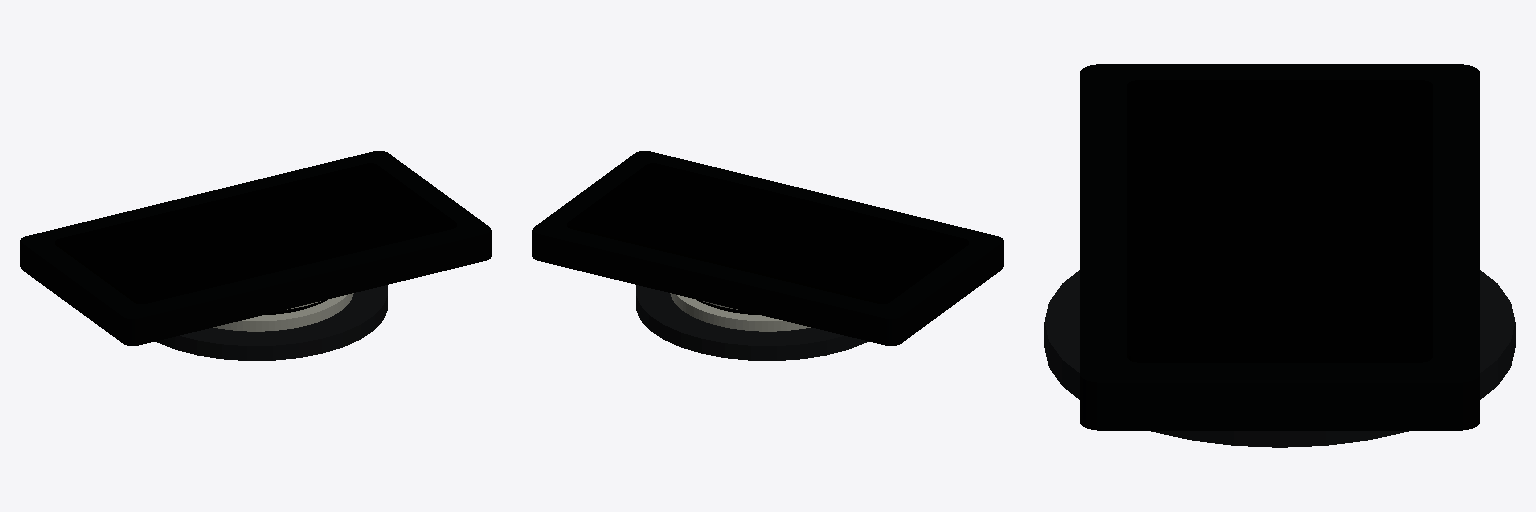
URDF robot description (rectangular_monitor_stand_lazy_susan):
<robot name="rectangular_monitor_stand_lazy_susan">
  <material name="matte_black">
    <color rgba="0.015 0.016 0.017 1" />
    </material>
  <material name="charcoal_powdercoat">
    <color rgba="0.08 0.085 0.09 1" />
    </material>
  <material name="dark_rubber">
    <color rgba="0.005 0.005 0.004 1" />
    </material>
  <material name="brushed_steel">
    <color rgba="0.58 0.58 0.54 1" />
    </material>
  <material name="polished_bearing_steel">
    <color rgba="0.82 0.82 0.78 1" />
    </material>
  <link name="base">
    <visual name="bottom_disc">
      <origin xyz="0 0 0.0125" rpy="0 0 0" />
      <geometry>
        <cylinder radius="0.2" length="0.025" />
        </geometry>
      <material name="charcoal_powdercoat">
        <color rgba="0.08 0.085 0.09 1" />
        </material>
      </visual>
    <visual name="lower_turntable_ring">
      <origin xyz="0 0 0.025" rpy="0 0 0" />
      <geometry>
        <mesh filename="assets/meshes/lower_turntable_ring.obj" />
        </geometry>
      <material name="brushed_steel">
        <color rgba="0.58 0.58 0.54 1" />
        </material>
      </visual>
    <visual name="center_bearing_boss">
      <origin xyz="0 0 0.0415" rpy="0 0 0" />
      <geometry>
        <cylinder radius="0.055" length="0.033" />
        </geometry>
      <material name="brushed_steel">
        <color rgba="0.58 0.58 0.54 1" />
        </material>
      </visual>
    <visual name="bearing_cage">
      <origin xyz="0 0 0.045" rpy="0 0 0" />
      <geometry>
        <mesh filename="assets/meshes/bearing_cage.obj" />
        </geometry>
      <material name="dark_rubber">
        <color rgba="0.005 0.005 0.004 1" />
        </material>
      </visual>
    <visual name="bearing_ball_0">
      <origin xyz="0.12 0 0.0495" rpy="0 0 0" />
      <geometry>
        <sphere radius="0.0075" />
        </geometry>
      <material name="polished_bearing_steel">
        <color rgba="0.82 0.82 0.78 1" />
        </material>
      </visual>
    <visual name="bearing_ball_1">
      <origin xyz="0.110866 0.045922 0.0495" rpy="0 0 0" />
      <geometry>
        <sphere radius="0.0075" />
        </geometry>
      <material name="polished_bearing_steel">
        <color rgba="0.82 0.82 0.78 1" />
        </material>
      </visual>
    <visual name="bearing_ball_2">
      <origin xyz="0.0848528 0.0848528 0.0495" rpy="0 0 0" />
      <geometry>
        <sphere radius="0.0075" />
        </geometry>
      <material name="polished_bearing_steel">
        <color rgba="0.82 0.82 0.78 1" />
        </material>
      </visual>
    <visual name="bearing_ball_3">
      <origin xyz="0.045922 0.110866 0.0495" rpy="0 0 0" />
      <geometry>
        <sphere radius="0.0075" />
        </geometry>
      <material name="polished_bearing_steel">
        <color rgba="0.82 0.82 0.78 1" />
        </material>
      </visual>
    <visual name="bearing_ball_4">
      <origin xyz="7.34788e-18 0.12 0.0495" rpy="0 0 0" />
      <geometry>
        <sphere radius="0.0075" />
        </geometry>
      <material name="polished_bearing_steel">
        <color rgba="0.82 0.82 0.78 1" />
        </material>
      </visual>
    <visual name="bearing_ball_5">
      <origin xyz="-0.045922 0.110866 0.0495" rpy="0 0 0" />
      <geometry>
        <sphere radius="0.0075" />
        </geometry>
      <material name="polished_bearing_steel">
        <color rgba="0.82 0.82 0.78 1" />
        </material>
      </visual>
    <visual name="bearing_ball_6">
      <origin xyz="-0.0848528 0.0848528 0.0495" rpy="0 0 0" />
      <geometry>
        <sphere radius="0.0075" />
        </geometry>
      <material name="polished_bearing_steel">
        <color rgba="0.82 0.82 0.78 1" />
        </material>
      </visual>
    <visual name="bearing_ball_7">
      <origin xyz="-0.110866 0.045922 0.0495" rpy="0 0 0" />
      <geometry>
        <sphere radius="0.0075" />
        </geometry>
      <material name="polished_bearing_steel">
        <color rgba="0.82 0.82 0.78 1" />
        </material>
      </visual>
    <visual name="bearing_ball_8">
      <origin xyz="-0.12 1.46958e-17 0.0495" rpy="0 0 0" />
      <geometry>
        <sphere radius="0.0075" />
        </geometry>
      <material name="polished_bearing_steel">
        <color rgba="0.82 0.82 0.78 1" />
        </material>
      </visual>
    <visual name="bearing_ball_9">
      <origin xyz="-0.110866 -0.045922 0.0495" rpy="0 0 0" />
      <geometry>
        <sphere radius="0.0075" />
        </geometry>
      <material name="polished_bearing_steel">
        <color rgba="0.82 0.82 0.78 1" />
        </material>
      </visual>
    <visual name="bearing_ball_10">
      <origin xyz="-0.0848528 -0.0848528 0.0495" rpy="0 0 0" />
      <geometry>
        <sphere radius="0.0075" />
        </geometry>
      <material name="polished_bearing_steel">
        <color rgba="0.82 0.82 0.78 1" />
        </material>
      </visual>
    <visual name="bearing_ball_11">
      <origin xyz="-0.045922 -0.110866 0.0495" rpy="0 0 0" />
      <geometry>
        <sphere radius="0.0075" />
        </geometry>
      <material name="polished_bearing_steel">
        <color rgba="0.82 0.82 0.78 1" />
        </material>
      </visual>
    <visual name="bearing_ball_12">
      <origin xyz="-2.20436e-17 -0.12 0.0495" rpy="0 0 0" />
      <geometry>
        <sphere radius="0.0075" />
        </geometry>
      <material name="polished_bearing_steel">
        <color rgba="0.82 0.82 0.78 1" />
        </material>
      </visual>
    <visual name="bearing_ball_13">
      <origin xyz="0.045922 -0.110866 0.0495" rpy="0 0 0" />
      <geometry>
        <sphere radius="0.0075" />
        </geometry>
      <material name="polished_bearing_steel">
        <color rgba="0.82 0.82 0.78 1" />
        </material>
      </visual>
    <visual name="bearing_ball_14">
      <origin xyz="0.0848528 -0.0848528 0.0495" rpy="0 0 0" />
      <geometry>
        <sphere radius="0.0075" />
        </geometry>
      <material name="polished_bearing_steel">
        <color rgba="0.82 0.82 0.78 1" />
        </material>
      </visual>
    <visual name="bearing_ball_15">
      <origin xyz="0.110866 -0.045922 0.0495" rpy="0 0 0" />
      <geometry>
        <sphere radius="0.0075" />
        </geometry>
      <material name="polished_bearing_steel">
        <color rgba="0.82 0.82 0.78 1" />
        </material>
      </visual>
    <collision name="bottom_disc">
      <origin xyz="0 0 0.0125" rpy="0 0 0" />
      <geometry>
        <cylinder radius="0.2" length="0.025" />
        </geometry>
      </collision>
    <collision name="lower_turntable_ring">
      <origin xyz="0 0 0.025" rpy="0 0 0" />
      <geometry>
        <mesh filename="assets/meshes/lower_turntable_ring.obj" />
        </geometry>
      </collision>
    <collision name="center_bearing_boss">
      <origin xyz="0 0 0.0415" rpy="0 0 0" />
      <geometry>
        <cylinder radius="0.055" length="0.033" />
        </geometry>
      </collision>
    <collision name="bearing_cage">
      <origin xyz="0 0 0.045" rpy="0 0 0" />
      <geometry>
        <mesh filename="assets/meshes/bearing_cage.obj" />
        </geometry>
      </collision>
    <collision name="bearing_ball_0">
      <origin xyz="0.12 0 0.0495" rpy="0 0 0" />
      <geometry>
        <sphere radius="0.0075" />
        </geometry>
      </collision>
    <collision name="bearing_ball_1">
      <origin xyz="0.110866 0.045922 0.0495" rpy="0 0 0" />
      <geometry>
        <sphere radius="0.0075" />
        </geometry>
      </collision>
    <collision name="bearing_ball_2">
      <origin xyz="0.0848528 0.0848528 0.0495" rpy="0 0 0" />
      <geometry>
        <sphere radius="0.0075" />
        </geometry>
      </collision>
    <collision name="bearing_ball_3">
      <origin xyz="0.045922 0.110866 0.0495" rpy="0 0 0" />
      <geometry>
        <sphere radius="0.0075" />
        </geometry>
      </collision>
    <collision name="bearing_ball_4">
      <origin xyz="7.34788e-18 0.12 0.0495" rpy="0 0 0" />
      <geometry>
        <sphere radius="0.0075" />
        </geometry>
      </collision>
    <collision name="bearing_ball_5">
      <origin xyz="-0.045922 0.110866 0.0495" rpy="0 0 0" />
      <geometry>
        <sphere radius="0.0075" />
        </geometry>
      </collision>
    <collision name="bearing_ball_6">
      <origin xyz="-0.0848528 0.0848528 0.0495" rpy="0 0 0" />
      <geometry>
        <sphere radius="0.0075" />
        </geometry>
      </collision>
    <collision name="bearing_ball_7">
      <origin xyz="-0.110866 0.045922 0.0495" rpy="0 0 0" />
      <geometry>
        <sphere radius="0.0075" />
        </geometry>
      </collision>
    <collision name="bearing_ball_8">
      <origin xyz="-0.12 1.46958e-17 0.0495" rpy="0 0 0" />
      <geometry>
        <sphere radius="0.0075" />
        </geometry>
      </collision>
    <collision name="bearing_ball_9">
      <origin xyz="-0.110866 -0.045922 0.0495" rpy="0 0 0" />
      <geometry>
        <sphere radius="0.0075" />
        </geometry>
      </collision>
    <collision name="bearing_ball_10">
      <origin xyz="-0.0848528 -0.0848528 0.0495" rpy="0 0 0" />
      <geometry>
        <sphere radius="0.0075" />
        </geometry>
      </collision>
    <collision name="bearing_ball_11">
      <origin xyz="-0.045922 -0.110866 0.0495" rpy="0 0 0" />
      <geometry>
        <sphere radius="0.0075" />
        </geometry>
      </collision>
    <collision name="bearing_ball_12">
      <origin xyz="-2.20436e-17 -0.12 0.0495" rpy="0 0 0" />
      <geometry>
        <sphere radius="0.0075" />
        </geometry>
      </collision>
    <collision name="bearing_ball_13">
      <origin xyz="0.045922 -0.110866 0.0495" rpy="0 0 0" />
      <geometry>
        <sphere radius="0.0075" />
        </geometry>
      </collision>
    <collision name="bearing_ball_14">
      <origin xyz="0.0848528 -0.0848528 0.0495" rpy="0 0 0" />
      <geometry>
        <sphere radius="0.0075" />
        </geometry>
      </collision>
    <collision name="bearing_ball_15">
      <origin xyz="0.110866 -0.045922 0.0495" rpy="0 0 0" />
      <geometry>
        <sphere radius="0.0075" />
        </geometry>
      </collision>
    </link>
  <link name="top_platform">
    <visual name="upper_bearing_disc">
      <origin xyz="0 0 0.007" rpy="0 0 0" />
      <geometry>
        <cylinder radius="0.148" length="0.014" />
        </geometry>
      <material name="brushed_steel">
        <color rgba="0.58 0.58 0.54 1" />
        </material>
      </visual>
    <visual name="top_plate">
      <origin xyz="0 0 0.014" rpy="0 0 0" />
      <geometry>
        <mesh filename="assets/meshes/top_plate.obj" />
        </geometry>
      <material name="matte_black">
        <color rgba="0.015 0.016 0.017 1" />
        </material>
      </visual>
    <visual name="top_grip_mat">
      <origin xyz="0 0 0.059" rpy="0 0 0" />
      <geometry>
        <mesh filename="assets/meshes/top_grip_mat.obj" />
        </geometry>
      <material name="dark_rubber">
        <color rgba="0.005 0.005 0.004 1" />
        </material>
      </visual>
    <collision name="upper_bearing_disc">
      <origin xyz="0 0 0.007" rpy="0 0 0" />
      <geometry>
        <cylinder radius="0.148" length="0.014" />
        </geometry>
      </collision>
    <collision name="top_plate">
      <origin xyz="0 0 0.014" rpy="0 0 0" />
      <geometry>
        <mesh filename="assets/meshes/top_plate.obj" />
        </geometry>
      </collision>
    <collision name="top_grip_mat">
      <origin xyz="0 0 0.059" rpy="0 0 0" />
      <geometry>
        <mesh filename="assets/meshes/top_grip_mat.obj" />
        </geometry>
      </collision>
    </link>
  <joint name="center_bearing" type="continuous">
    <origin xyz="0 0 0.058" rpy="0 0 0" />
    <parent link="base" />
    <child link="top_platform" />
    <axis xyz="0 0 1" />
    <limit effort="12" velocity="4" />
    </joint>
  </robot>

--- Render facts (derived) ---
Views: 3 orthographic renders of the robot side by side, from view 1: azimuth 30°, elevation 25°; view 2: azimuth 150°, elevation 25°; view 3: azimuth 270°, elevation 25°.
Model rectangular_monitor_stand_lazy_susan with 2 links and 1 joints (1 continuous), rooted at base, posed all joints at 0.
Links seen in each view (by area): view 1: top_platform, base; view 2: top_platform, base; view 3: top_platform, base.
Link boxes in pixels (box(x1,y1,x2,y2)): top_platform: box(20, 151, 491, 345); base: box(156, 285, 387, 360); top_platform: box(532, 151, 1003, 345); base: box(636, 285, 868, 360); top_platform: box(1080, 64, 1479, 430); base: box(1044, 270, 1515, 447).
Size in the robot's own frame: 0.64 by 0.4 by 0.121 metres.
4 mesh visuals loaded from 4 distinct referenced files (4 OBJ).
